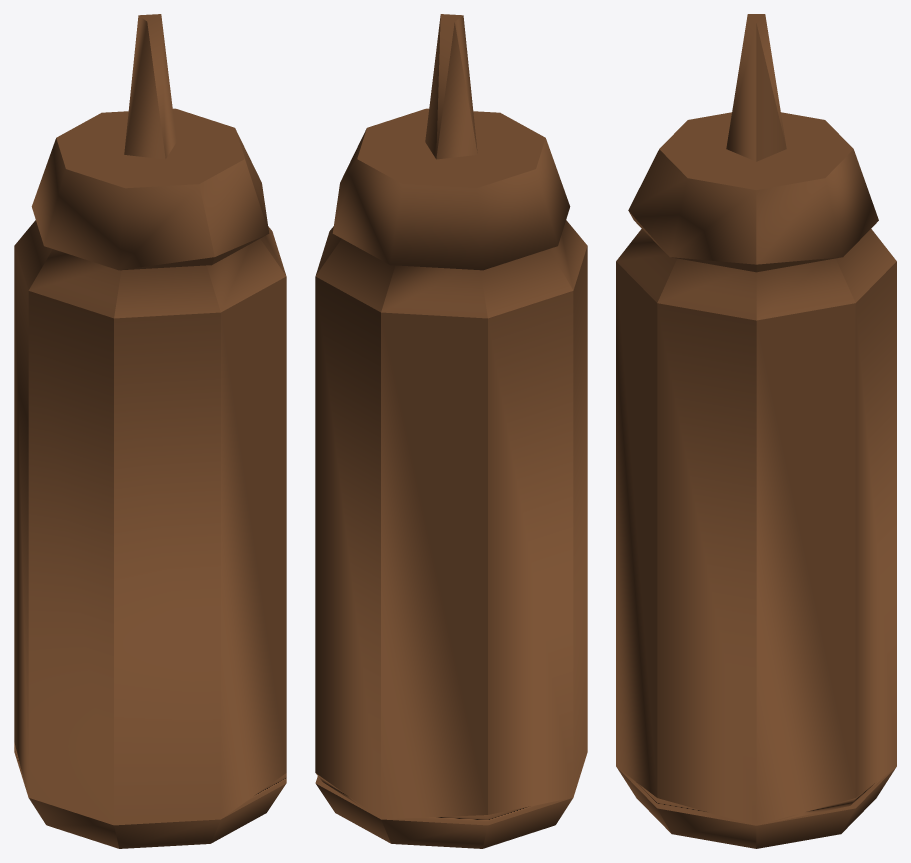
File: cc0-ketchup-bottle-lod1.glb
3 views of the same model, side by side, from view 1: azimuth 30°, elevation 25°; view 2: azimuth 150°, elevation 25°; view 3: azimuth 270°, elevation 25° (orthographic).
Parts seen in each view (by area): view 1: part_0; view 2: part_0; view 3: part_0.
Boxes of the visible parts, x1,y1,x2,y2 form: part_0: (14, 14, 286, 848); part_0: (315, 14, 587, 848); part_0: (616, 14, 896, 848).
Bounding box in the file's own units: 0.4996 × 1.53 × 0.4996.
